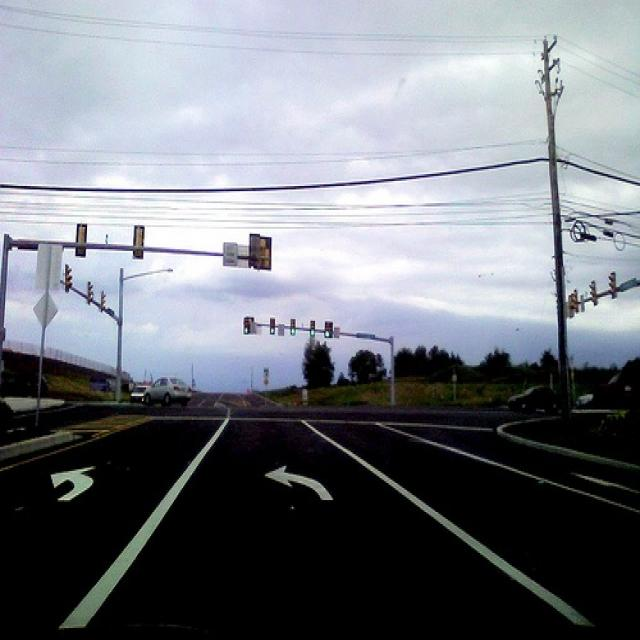car: (588, 352, 638, 411), (506, 384, 564, 410), (141, 374, 189, 404), (126, 382, 150, 400)
pole: (540, 32, 572, 406), (113, 263, 123, 406), (386, 333, 396, 408)
